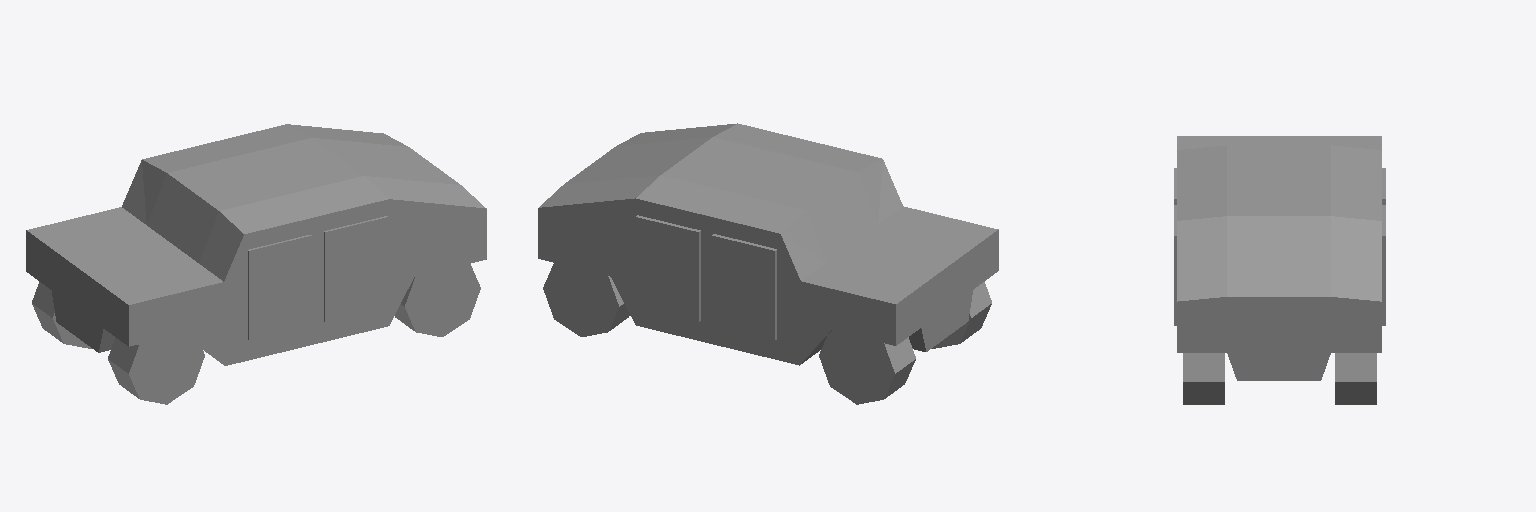
Rendered from car.obj.
3 renders of one model, left to right at view 1: azimuth 30°, elevation 25°; view 2: azimuth 150°, elevation 25°; view 3: azimuth 270°, elevation 25°, orthographic.
Visible parts, largest first — view 1: Cube.002_Cube.004; view 2: Cube.002_Cube.004; view 3: Cube.002_Cube.004.
Part boxes in pixels (left/top/right/bottom): Cube.002_Cube.004: left=26, top=124, right=486, bottom=404; Cube.002_Cube.004: left=538, top=123, right=998, bottom=404; Cube.002_Cube.004: left=1174, top=136, right=1385, bottom=404.
Size of the model in its own units: 225 by 95.83 by 116.